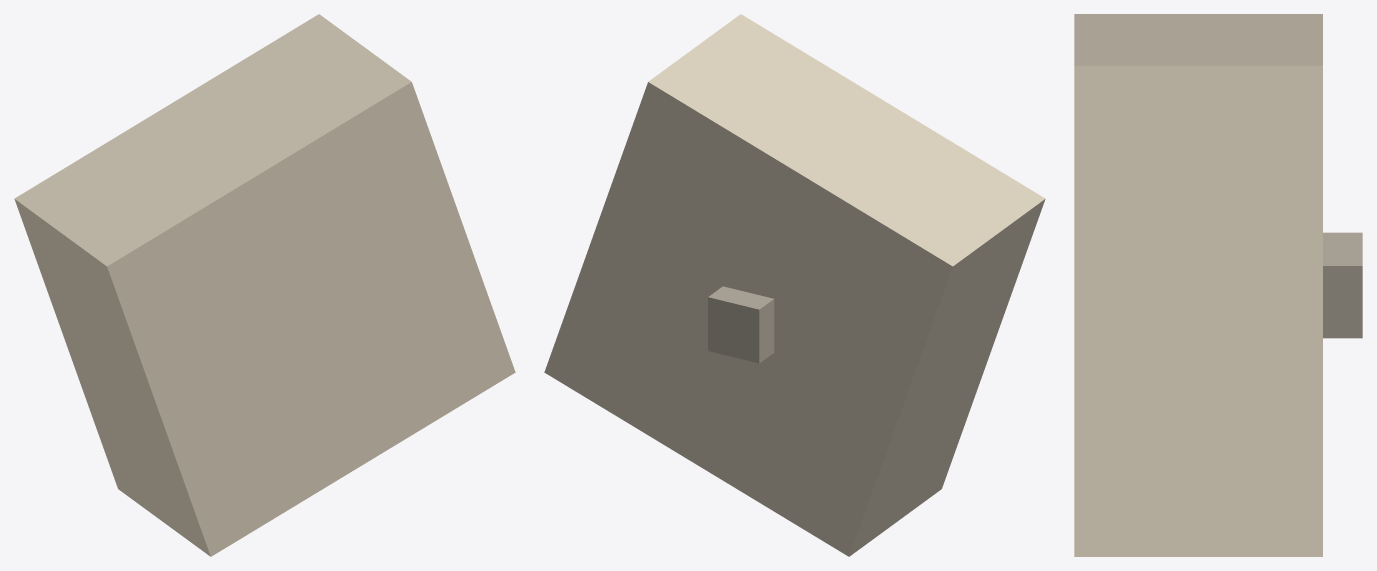
File: historic-palestine-01_17_3427_3119.glb
3 renders of one model, left to right at view 1: azimuth 30°, elevation 25°; view 2: azimuth 150°, elevation 25°; view 3: azimuth 270°, elevation 25°, orthographic. The views are drawn at different scales.
Parts seen in each view (by area): view 1: Building_; view 2: Building_, Roof access hut; view 3: Building_, Roof access hut.
Part boxes in pixels (x1=…): Building_: x1=14, y1=14, x2=515, y2=556; Building_: x1=544, y1=14, x2=1045, y2=556; Roof access hut: x1=708, y1=286, x2=774, y2=363; Building_: x1=1074, y1=14, x2=1322, y2=556; Roof access hut: x1=1323, y1=232, x2=1362, y2=338.
Bounding box in the file's own units: 19.07 × 19 × 8.7.
